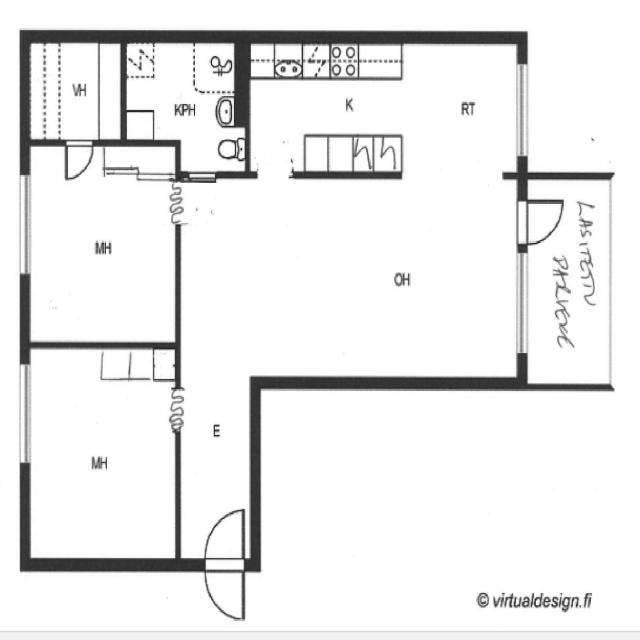door: (200, 504, 247, 622), (519, 197, 565, 246), (63, 138, 94, 184)
window: (14, 357, 35, 466), (16, 168, 34, 276), (515, 247, 531, 360), (515, 57, 531, 163), (184, 168, 220, 184)
zone: (179, 175, 527, 382), (243, 42, 523, 172), (24, 343, 181, 566), (20, 141, 184, 346), (122, 37, 245, 173), (179, 379, 254, 569), (24, 36, 122, 143), (246, 40, 336, 79)
